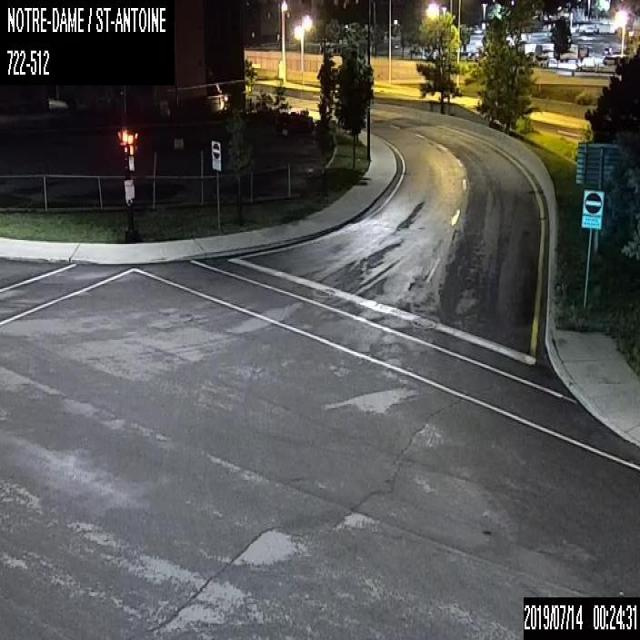vehicle: (274, 110, 318, 137)
